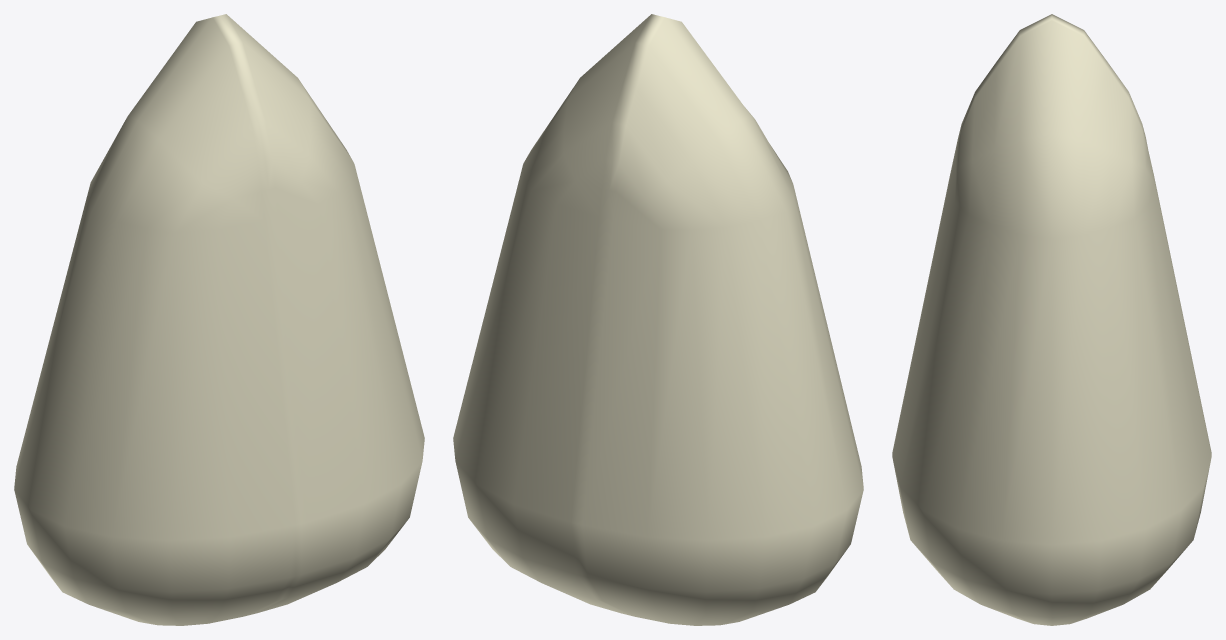
Rendered from Seed_Var3.fbx.
3 views of the same model, side by side, from view 1: azimuth 30°, elevation 25°; view 2: azimuth 150°, elevation 25°; view 3: azimuth 270°, elevation 25° (orthographic). The views are drawn at different scales.
Parts seen in each view (by area): view 1: Seed_Var_2; view 2: Seed_Var_2; view 3: Seed_Var_2.
Boxes of the visible parts, <box> form: Seed_Var_2: <box>14,14,424,625</box>; Seed_Var_2: <box>453,14,863,625</box>; Seed_Var_2: <box>892,14,1211,625</box>.
Bounding box in the file's own units: 2.87 × 4.29 × 2.15.
